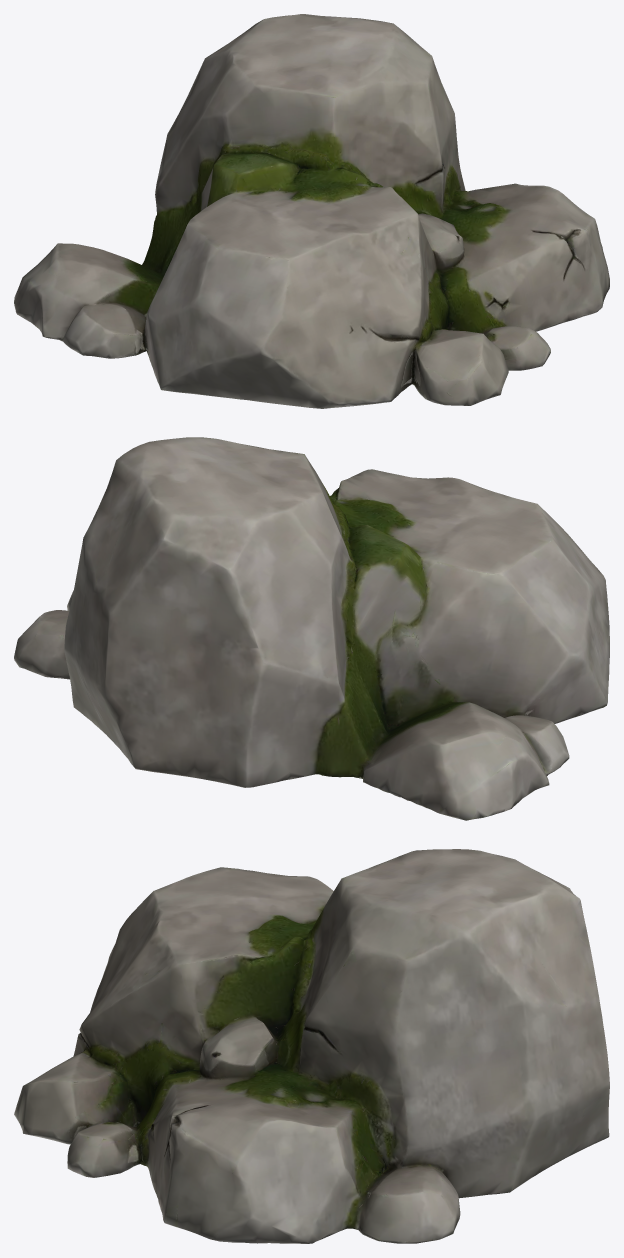
File: rocks_small.glb
The picture shows the model from 3 angles, top to bottom: view 1: azimuth 30°, elevation 25°; view 2: azimuth 150°, elevation 25°; view 3: azimuth 270°, elevation 25°; orthographic projection. The views are drawn at different scales.
Parts seen in each view (by area): view 1: Mesh1.0; view 2: Mesh1.0; view 3: Mesh1.0.
Boxes of the visible parts, left/top/right/bottom form: Mesh1.0: left=14, top=14, right=609, bottom=408; Mesh1.0: left=14, top=437, right=609, bottom=820; Mesh1.0: left=14, top=849, right=609, bottom=1243.
Size of the model in its own units: 1.91 by 0.8333 by 1.74.
1 material, 1 textured.
